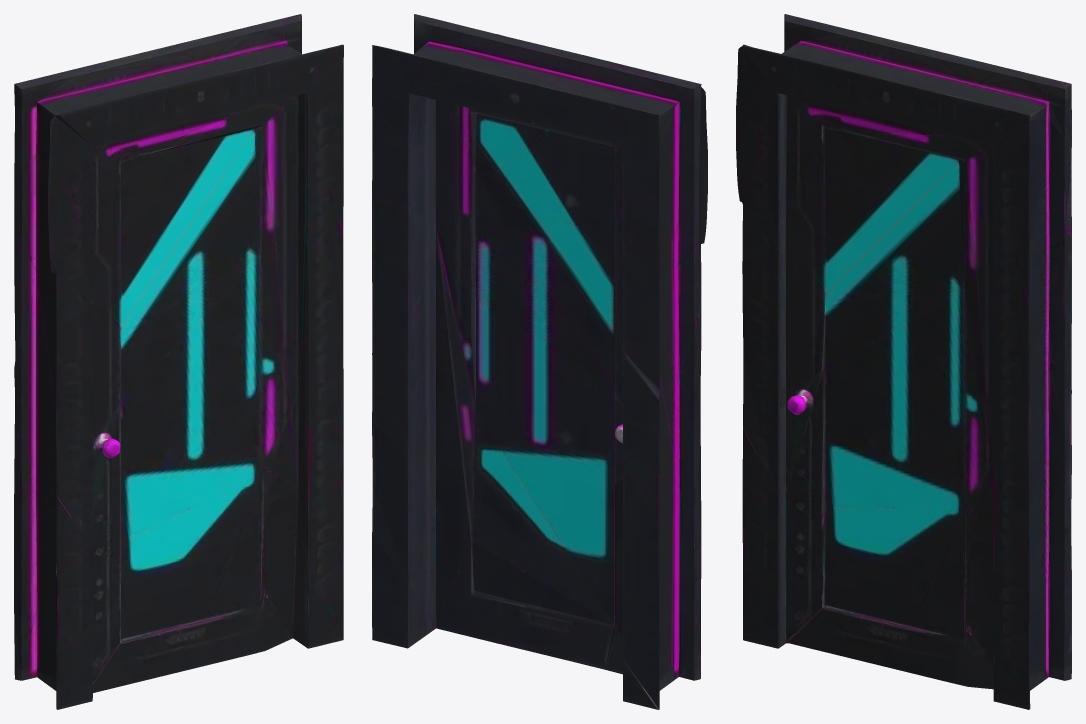
The model's file is door_city.glb.
The picture shows the model from 3 angles, left to right: view 1: azimuth 30°, elevation 25°; view 2: azimuth 150°, elevation 25°; view 3: azimuth 330°, elevation 25°; orthographic projection.
Bounding box in the file's own units: 0.9834 × 1.9 × 0.266.
Materials: 1 (1 with a texture image).
